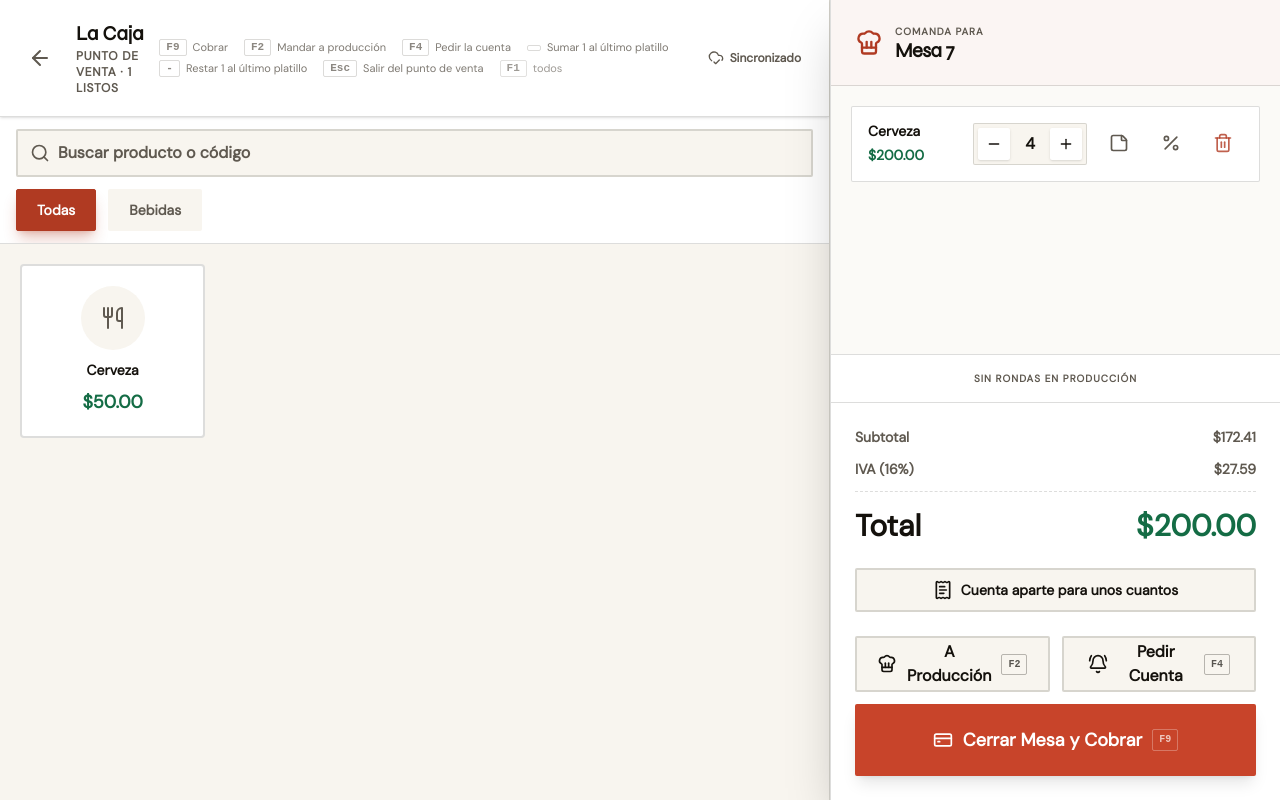
it: Integración · cuenta parcial en mesa → cobro › EL ESLABÓN: la venta lleva el folio del papel y el total de la parte
The width and height of the screenshot is (1280, 800).
Later steps or results of the test are not shown.
Click the button "Cuenta aparte para unos cuantos": (1056, 590) [855, 568, 1256, 612]
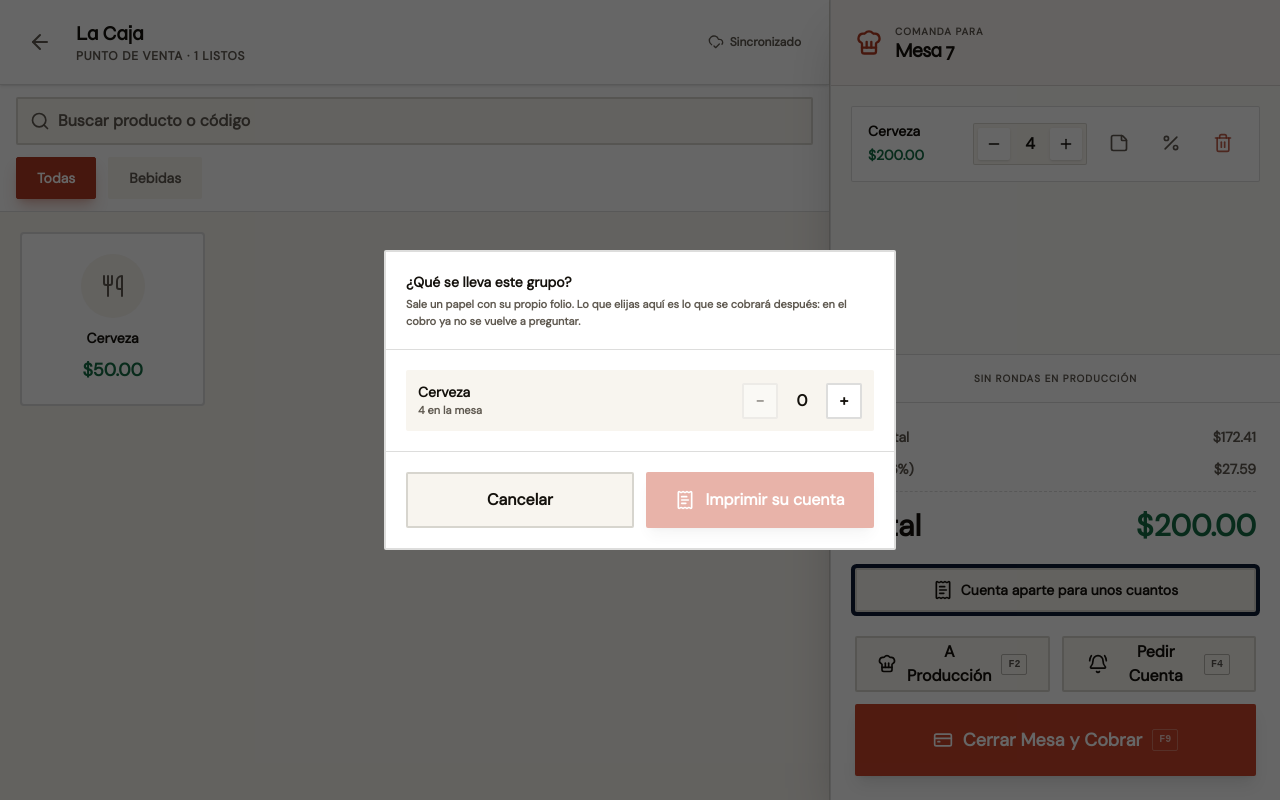
Click the button named "Sumar una unidad de Cerveza": (844, 400) [826, 382, 862, 418]
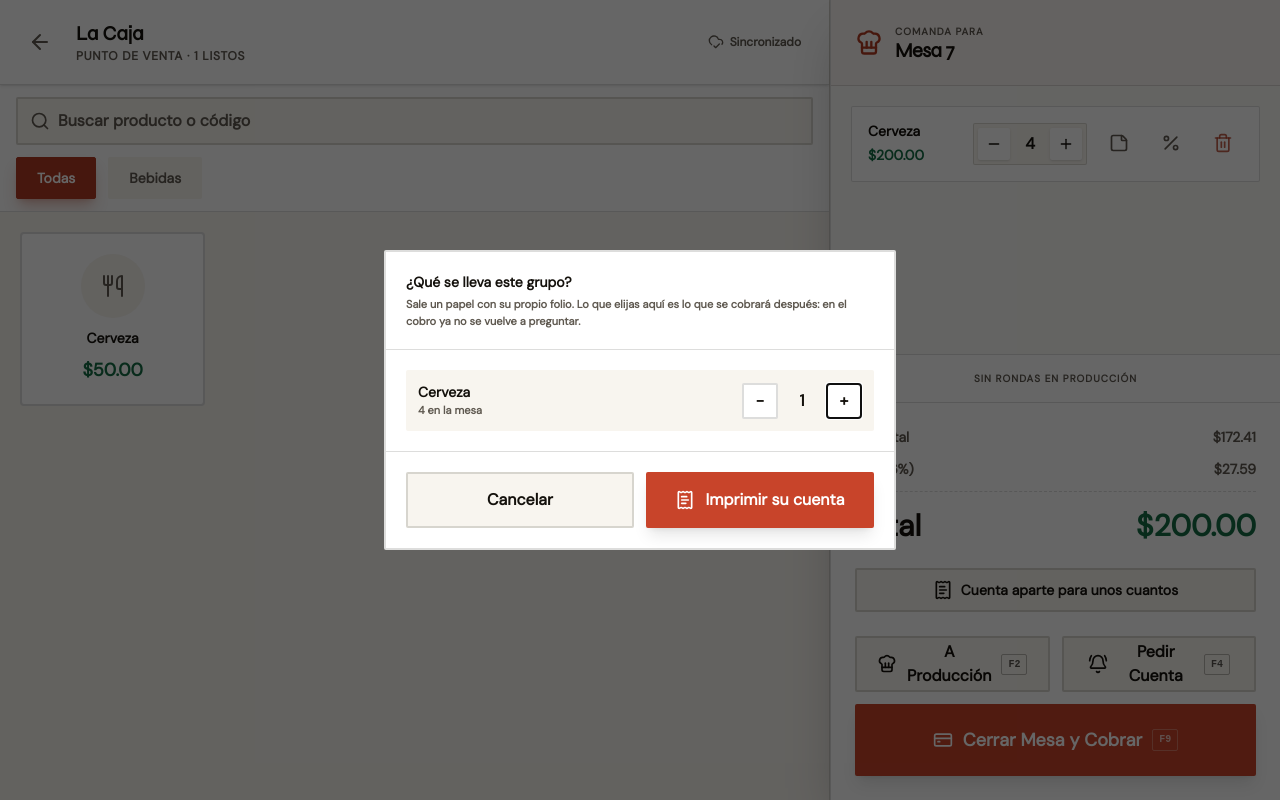
Click the button named "Sumar una unidad de Cerveza": (844, 400) [826, 382, 862, 418]
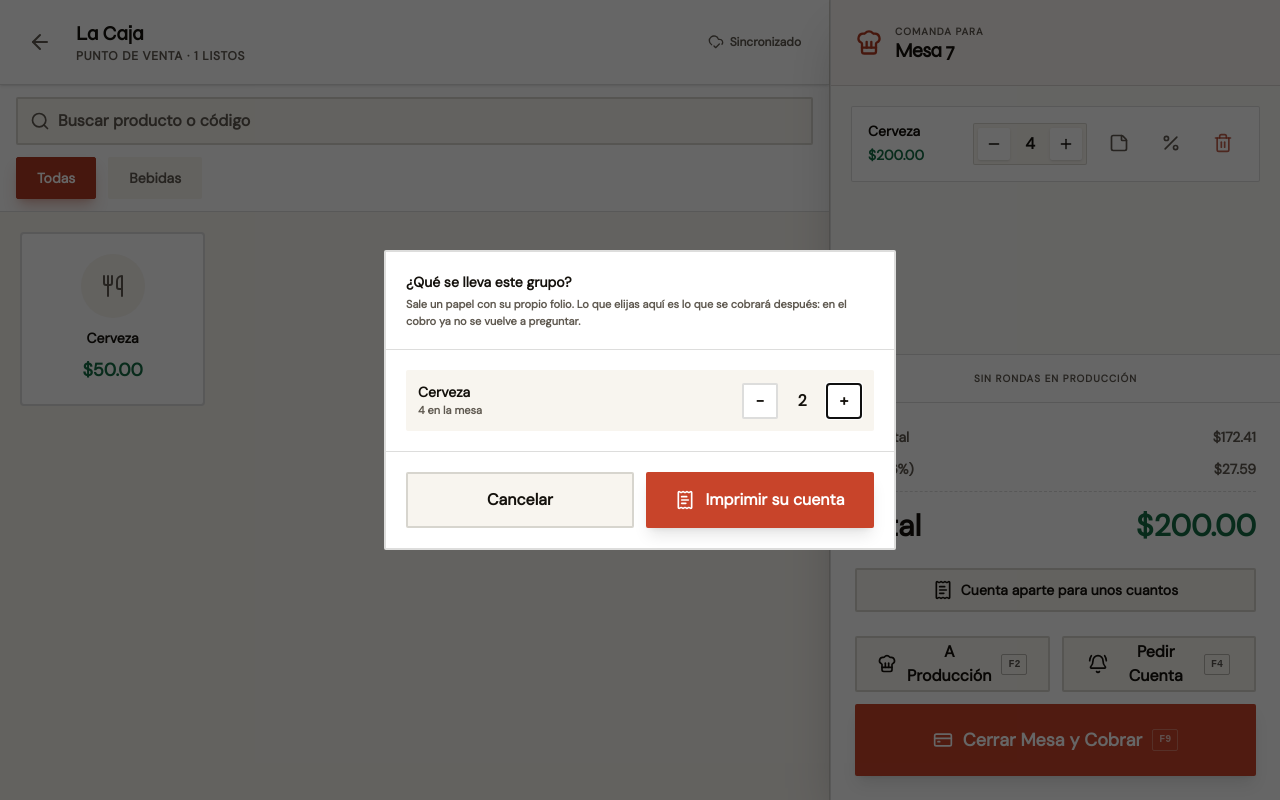
Click the button "Imprimir su cuenta": (760, 500) [646, 472, 874, 528]
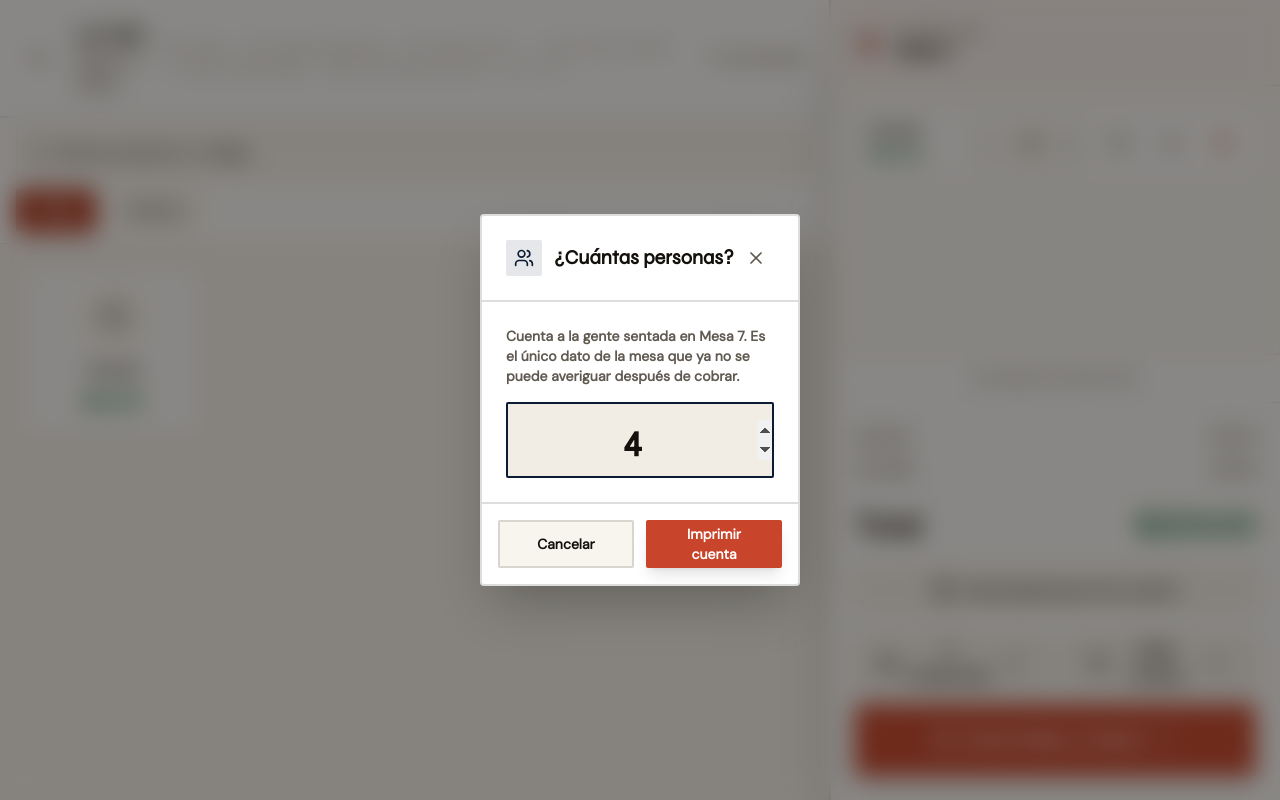
Check: the heading "¿Cuántas personas?" is shown, box [554, 244, 734, 272]
